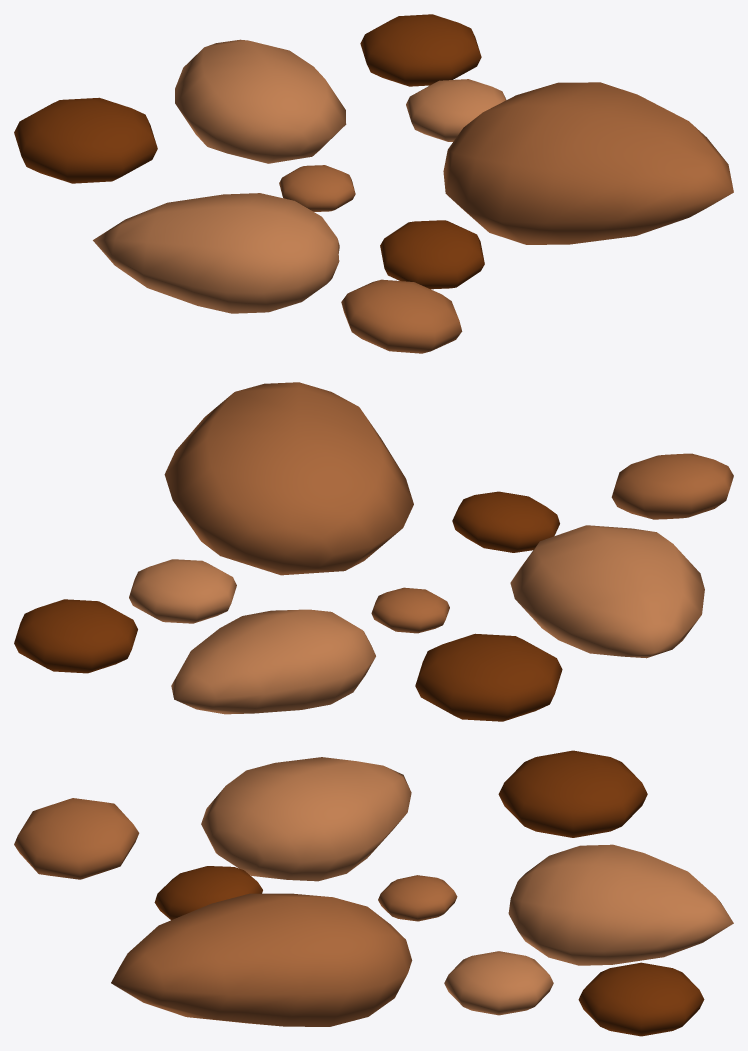
The model's file is seeds.fbx.
3 views of the same model, one above another, from view 1: azimuth 30°, elevation 25°; view 2: azimuth 150°, elevation 25°; view 3: azimuth 270°, elevation 25° (orthographic). The views are drawn at different scales.
Visible parts, largest first — view 1: seeds; view 2: seeds; view 3: seeds.
Part boxes in pixels (<box>): seeds: <box>14,14,733,353</box>; seeds: <box>14,382,733,721</box>; seeds: <box>14,750,733,1036</box>.
Bounding box in the file's own units: 1.28 × 0.2754 × 1.5.
